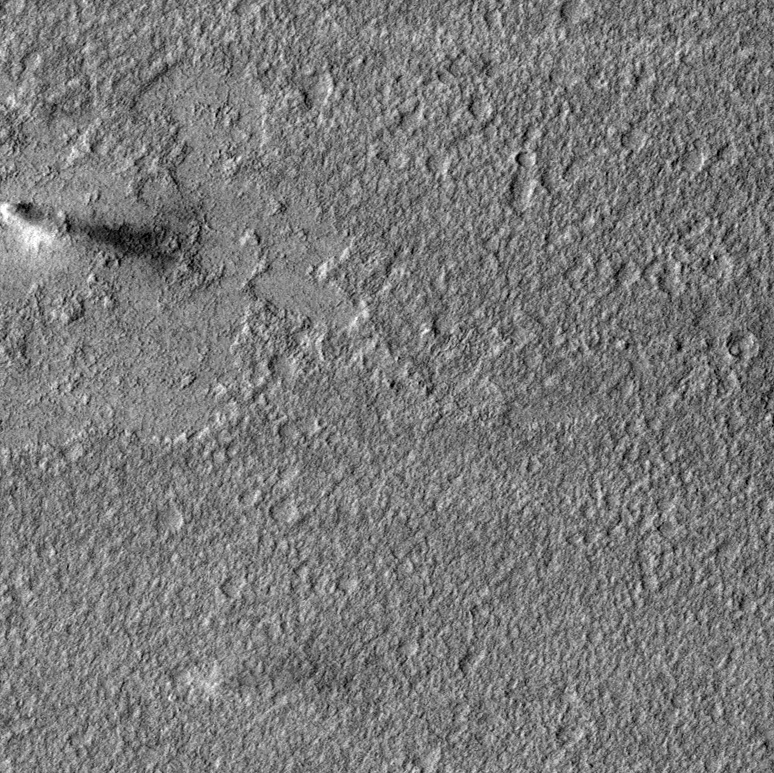dust_devil: (1, 196, 181, 274), (178, 646, 362, 707)
